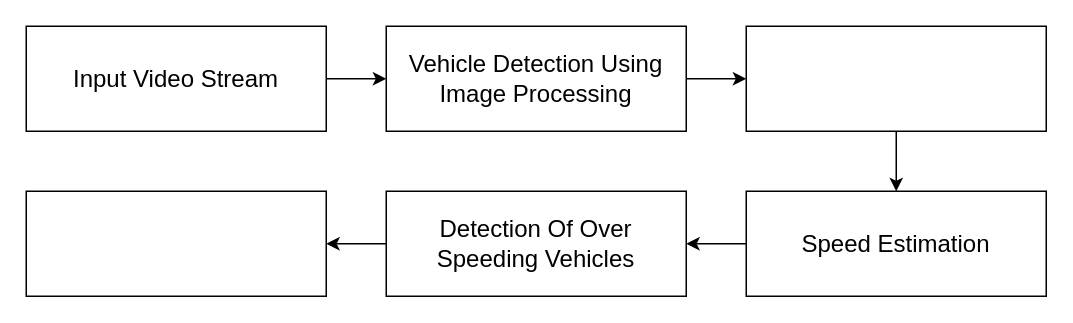
This 1073x323 diagram has some shape labels left out. Here are the shapes that lost their labels. From the top down, the box of each, then its label:
(745, 25, 1046, 131): Vehicle Tracking Using Euclidean Distance
(25, 190, 326, 296): Storing Information & Data Visualization
